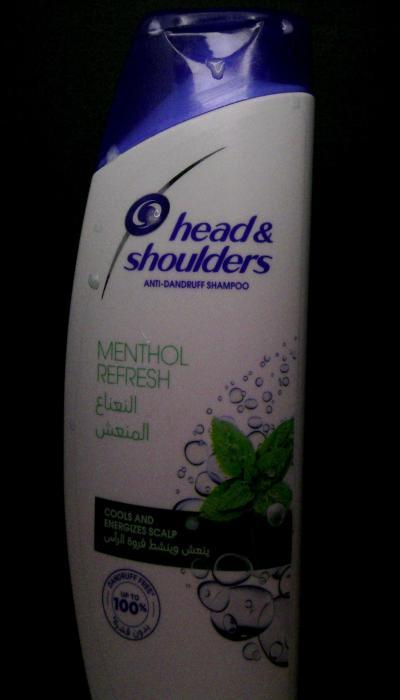pob_marg: (204, 55, 233, 85), (140, 203, 166, 236), (102, 140, 125, 172), (142, 16, 168, 42), (84, 268, 104, 296), (174, 11, 198, 34), (273, 14, 295, 39), (180, 511, 202, 536), (284, 92, 306, 116), (64, 411, 80, 437), (90, 220, 106, 237)
